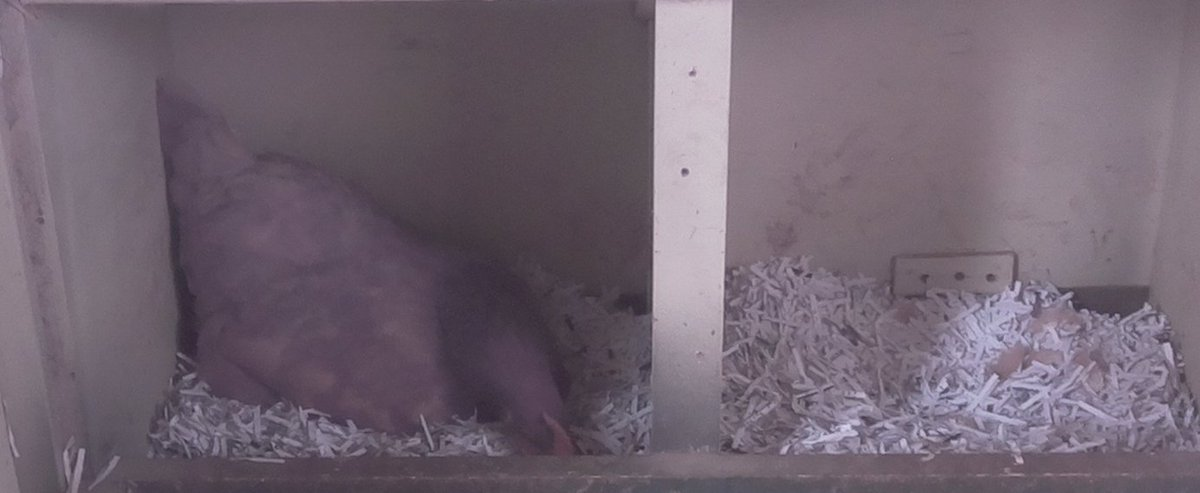hen: (155, 136, 596, 456)
